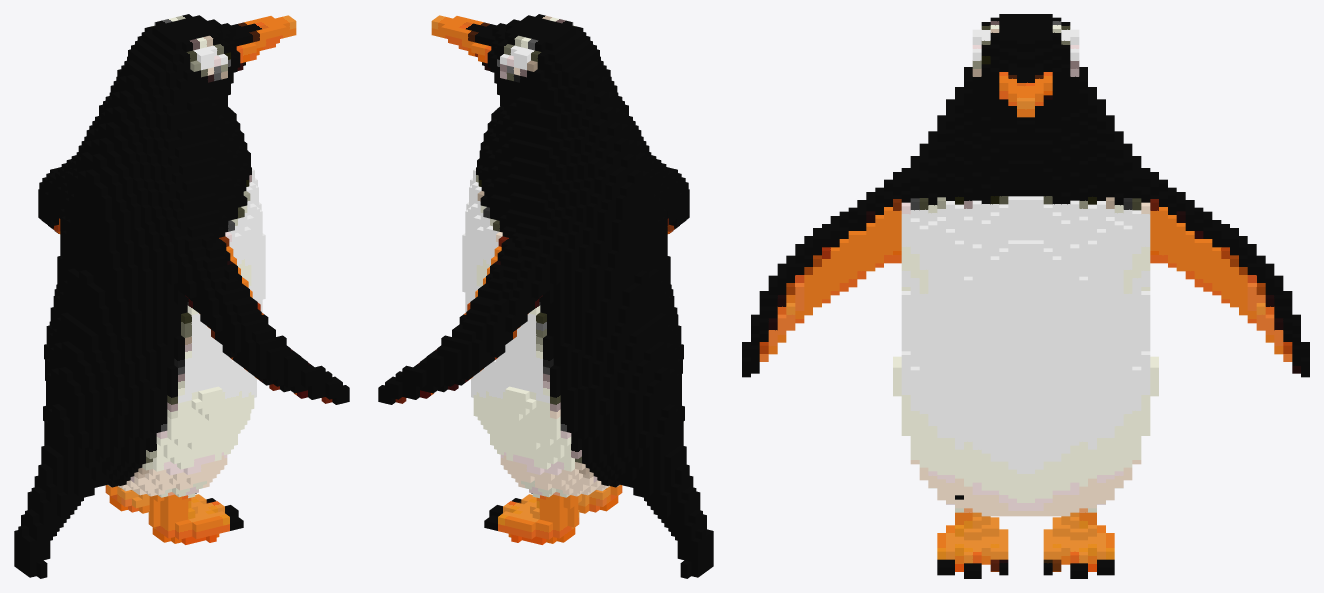
3 views of the same model, side by side, from view 1: azimuth 30°, elevation 25°; view 2: azimuth 150°, elevation 25°; view 3: azimuth 270°, elevation 25° (orthographic). The views are drawn at different scales.
Parts seen in each view (by area): view 1: Object; view 2: Object; view 3: Object.
Boxes of the visible parts, x1,y1,x2,y2 form: Object: (14, 14, 349, 578); Object: (378, 14, 713, 578); Object: (742, 14, 1309, 578).
Bounding box in the file's own units: 40 × 71 × 64.
1 material, 1 textured.
